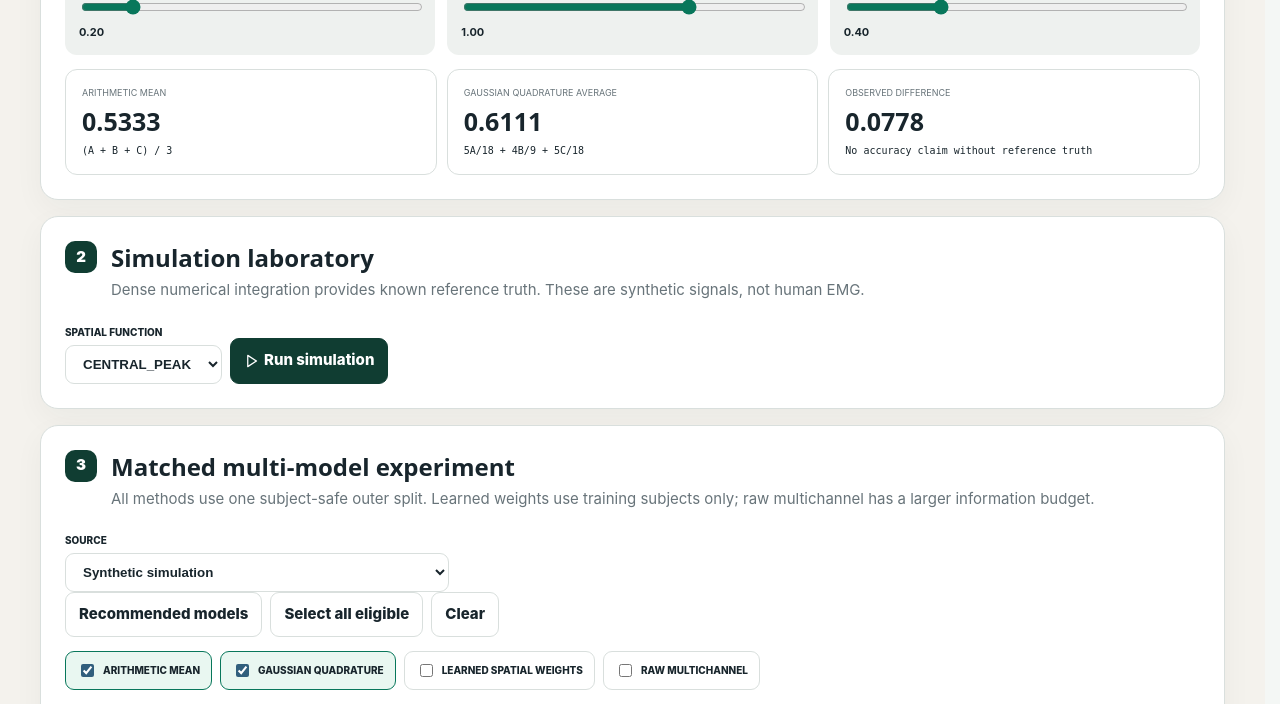
Test case: EMG comparison dashboard › shows hardware limits, equations, selectable deep models, and measured simulation metrics
(page scrolled)
expect the text "5A/18 + 4B/9 + 5C/18" is shown: met, box [464,145,584,156]
Click the button "Run simulation": x=309, y=361 [230,338,388,384]
(page scrolled)
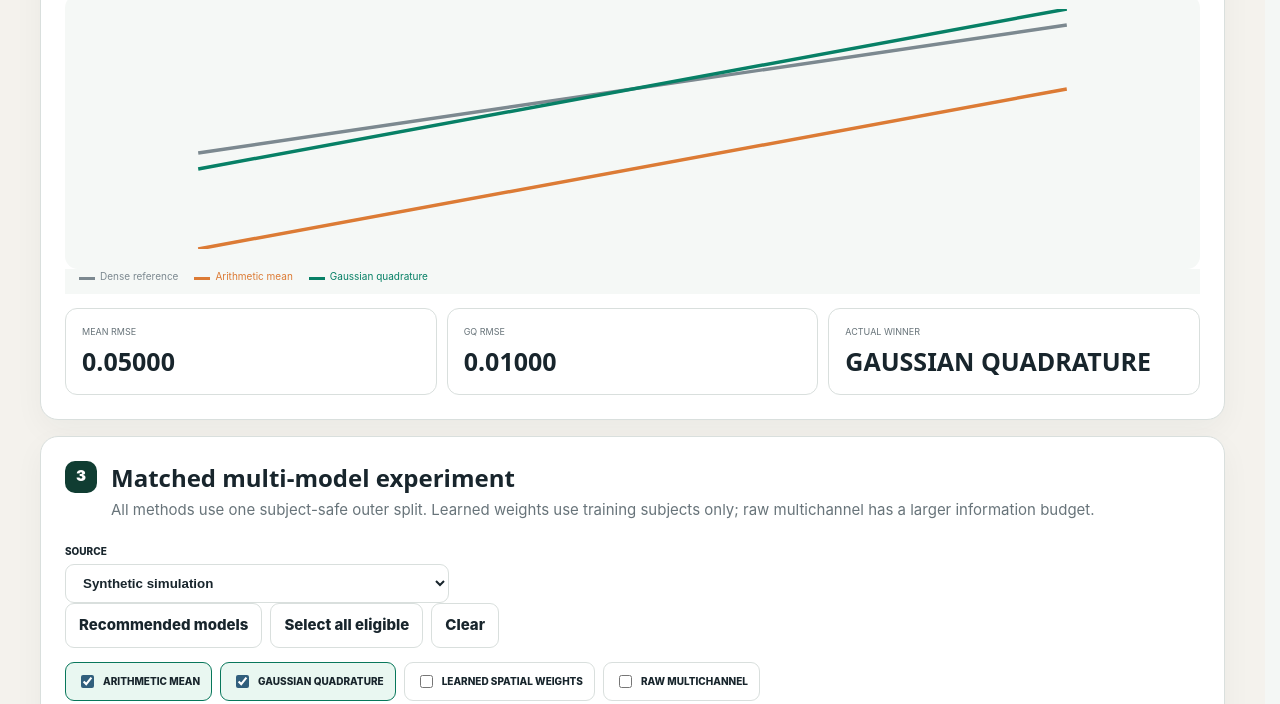
expect the text "0.01000" is shown: met, box [464,344,557,378]
expect the text "GAUSSIAN QUADRATURE" is shown: met, box [845,344,1183,378]
